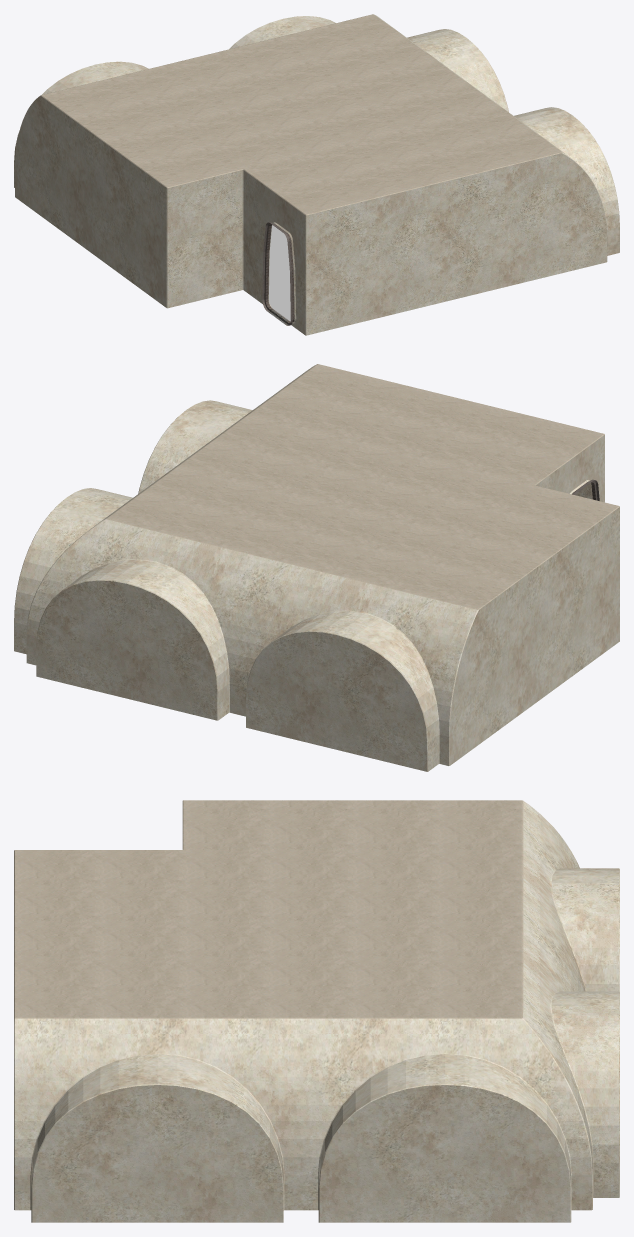
The model's file is thm_tato_house_m_s01_fp1_r12_bedroom5_mesh_r12.fbx.
3 renders of one model, top to bottom at view 1: azimuth 30°, elevation 25°; view 2: azimuth 150°, elevation 25°; view 3: azimuth 270°, elevation 25°, orthographic. The views are drawn at different scales.
Parts seen in each view (by area): view 1: mesh_node; view 2: mesh_node; view 3: mesh_node.
Part boxes in pixels (x1,y1,x2,y2): mesh_node: (14, 14, 619, 335); mesh_node: (14, 364, 619, 771); mesh_node: (14, 800, 619, 1222).
Bounding box in the file's own units: 14.62 × 4.25 × 14.37.
